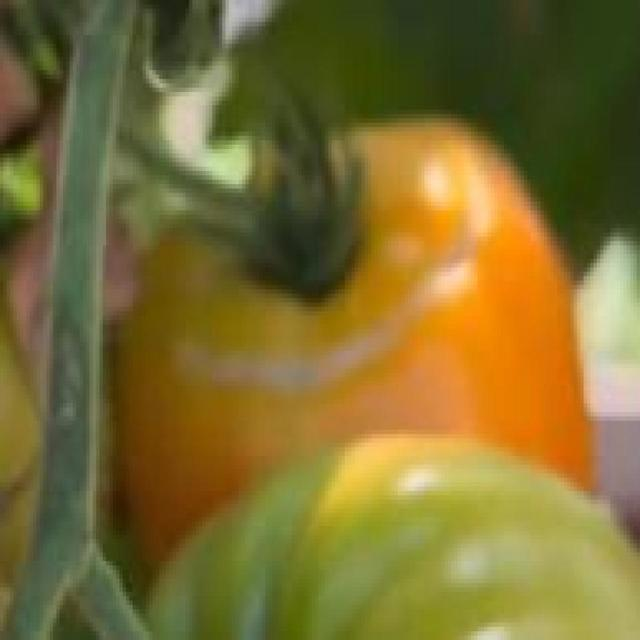Cracking Fruit: (91, 92, 332, 257)
